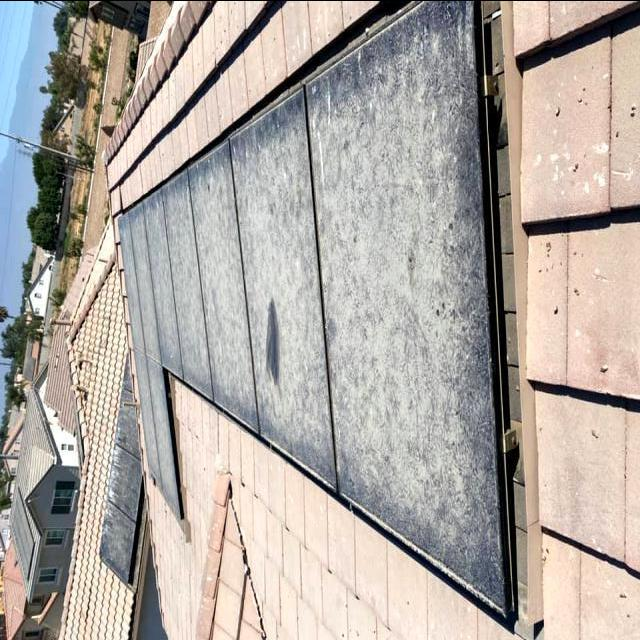soiled: (181, 1, 519, 609), (121, 169, 183, 509)
